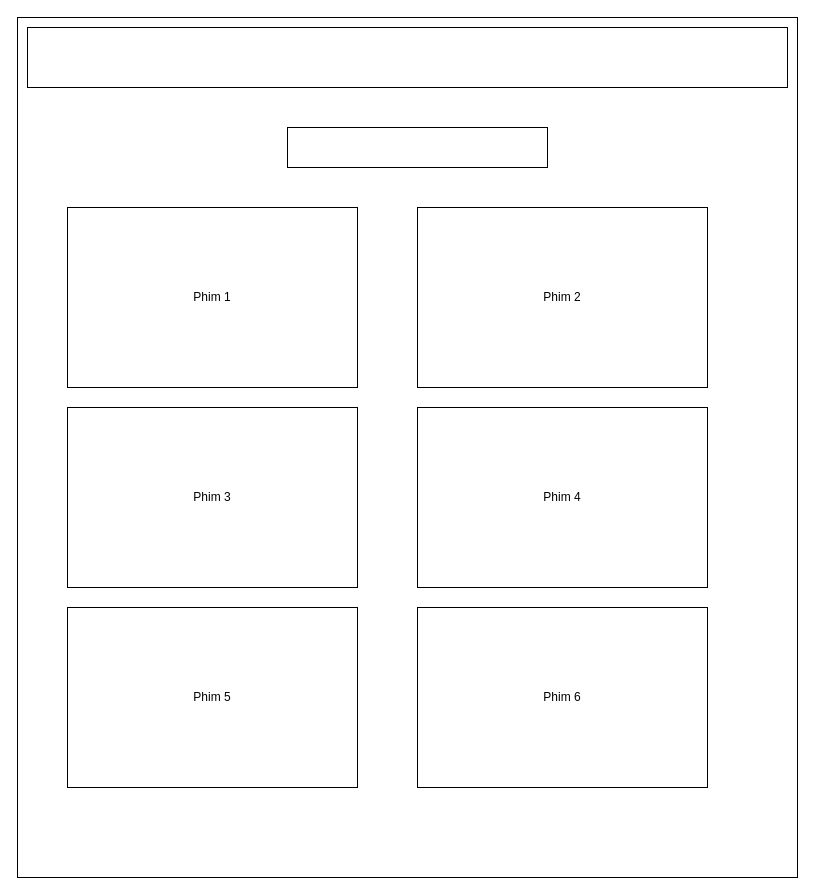
The diagram is 815 pixels wide and 895 high, and some of its shapes have lost their labels. Each missing label, with the centre of its shape:
"Header" goes at point 407,57.
"Phim đang chiếu" goes at point 417,147.
